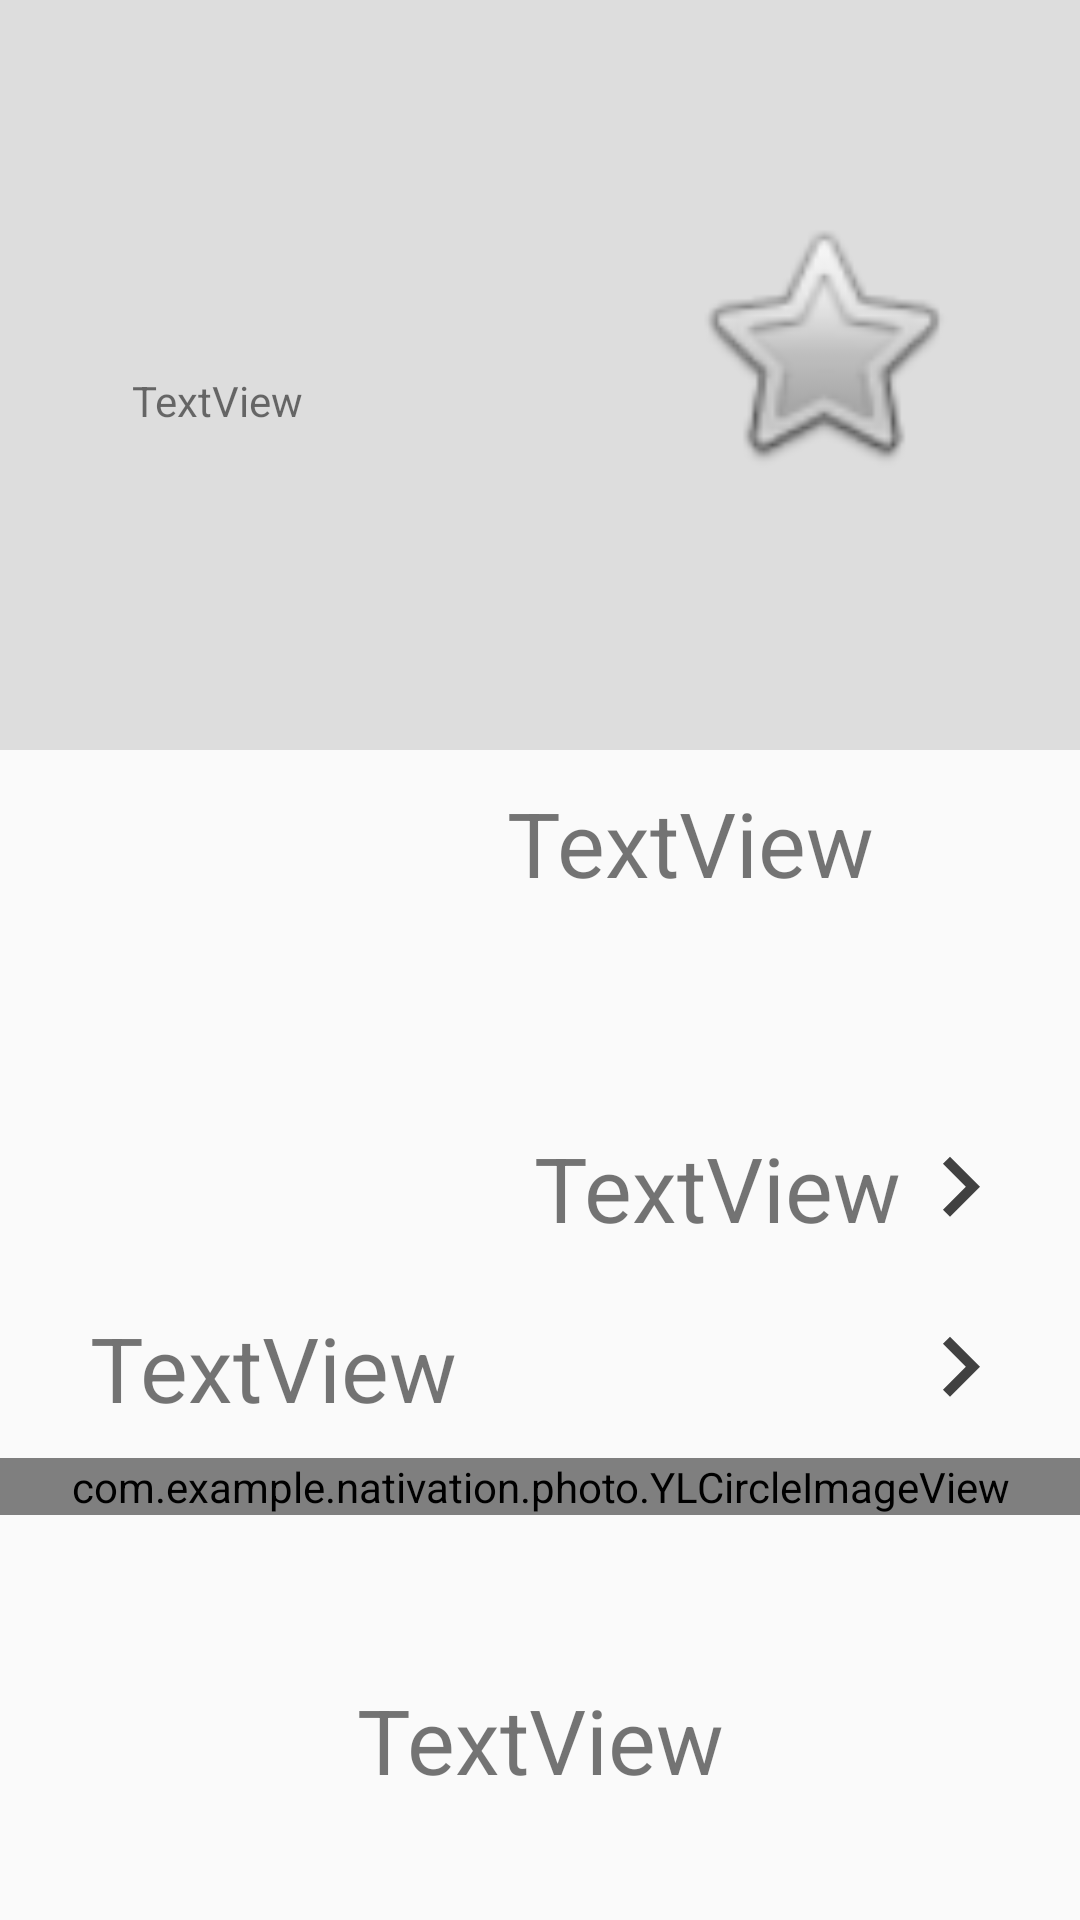

Icons on this 1080px x 1920px Android screen, each with the point to tap as (x,y):
star: (824,346)
